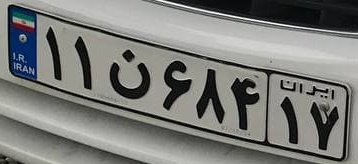character: (106, 40, 155, 100), (227, 67, 260, 134), (193, 65, 226, 128), (160, 54, 193, 116), (307, 100, 340, 158), (39, 22, 63, 91), (277, 93, 304, 147), (73, 32, 93, 94)
